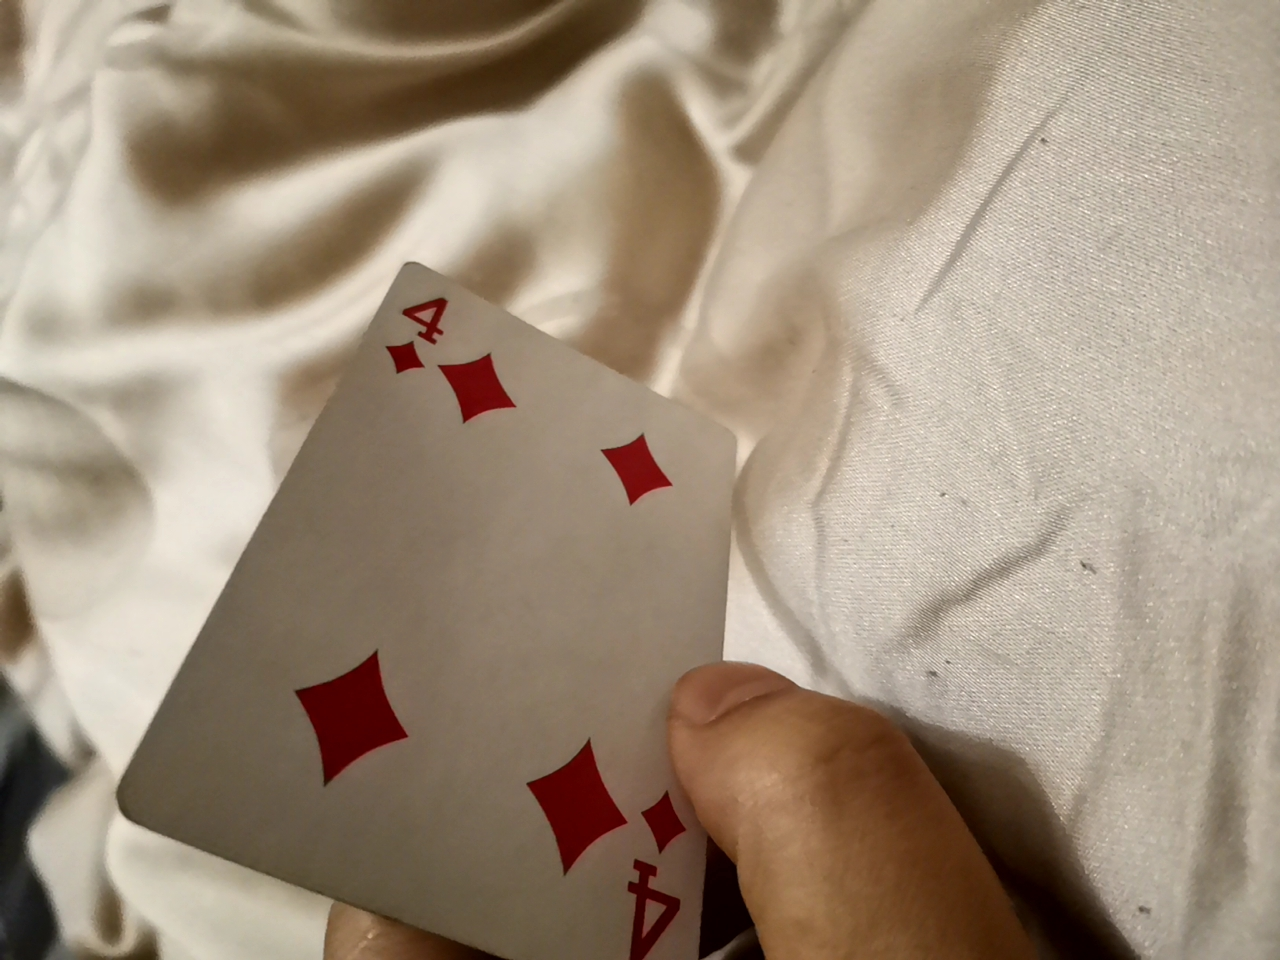fk 4: (76, 217, 757, 957)
